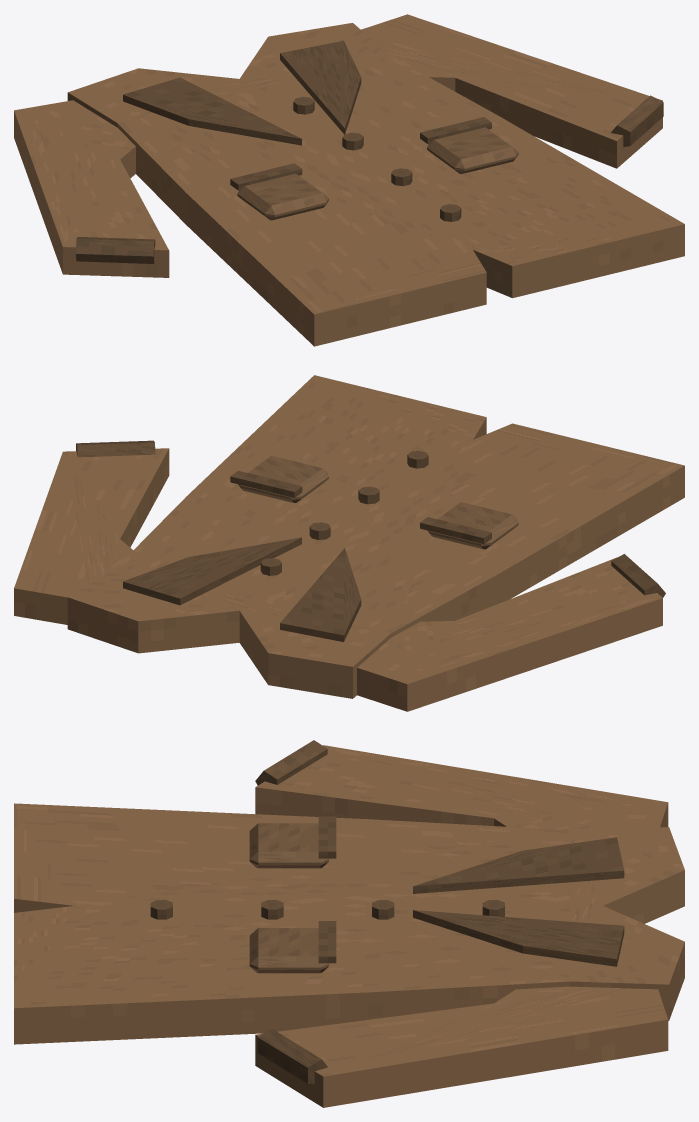
Rendered from trenchcoat_leather.glb.
3 renders of one model, top to bottom at view 1: azimuth 30°, elevation 25°; view 2: azimuth 150°, elevation 25°; view 3: azimuth 270°, elevation 25°, orthographic. The views are drawn at different scales.
Parts seen in each view (by area): view 1: block_coat body, block_sleeve (×2), block_lapel (×2), block_patch pocket (×2), block_cuff 0 (×2), block_pocket welt (×2); view 2: block_coat body, block_sleeve (×2), block_lapel (×2), block_patch pocket (×2), block_cuff 0 (×2), block_pocket welt (×2); view 3: block_coat body, block_sleeve (×2), block_lapel (×2), block_patch pocket (×2), block_cuff 0 (×2), block_pocket welt (×2).
Boxes of the visible parts, x1,y1,x2,y2 form: block_coat body: (67,23,684,346); block_sleeve (×2): (14,14,662,277); block_lapel (×2): (123,40,361,145); block_patch pocket (×2): (237,127,518,220); block_cuff 0 (×2): (75,95,663,263); block_pocket welt (×2): (230,117,491,190); block_coat body: (67,375,684,698); block_sleeve (×2): (14,448,662,711); block_lapel (×2): (123,537,361,641); block_patch pocket (×2): (238,455,518,549); block_cuff 0 (×2): (76,440,665,597); block_pocket welt (×2): (230,470,491,544); block_coat body: (14,803,684,1044); block_sleeve (×2): (255,745,668,1107); block_lapel (×2): (413,837,624,966); block_patch pocket (×2): (249,823,328,973); block_cuff 0 (×2): (255,740,327,1084); block_pocket welt (×2): (318,816,336,963).
Bounding box in the file's own units: 0.8256 × 0.0647 × 0.7059.
1 material, 1 textured.
